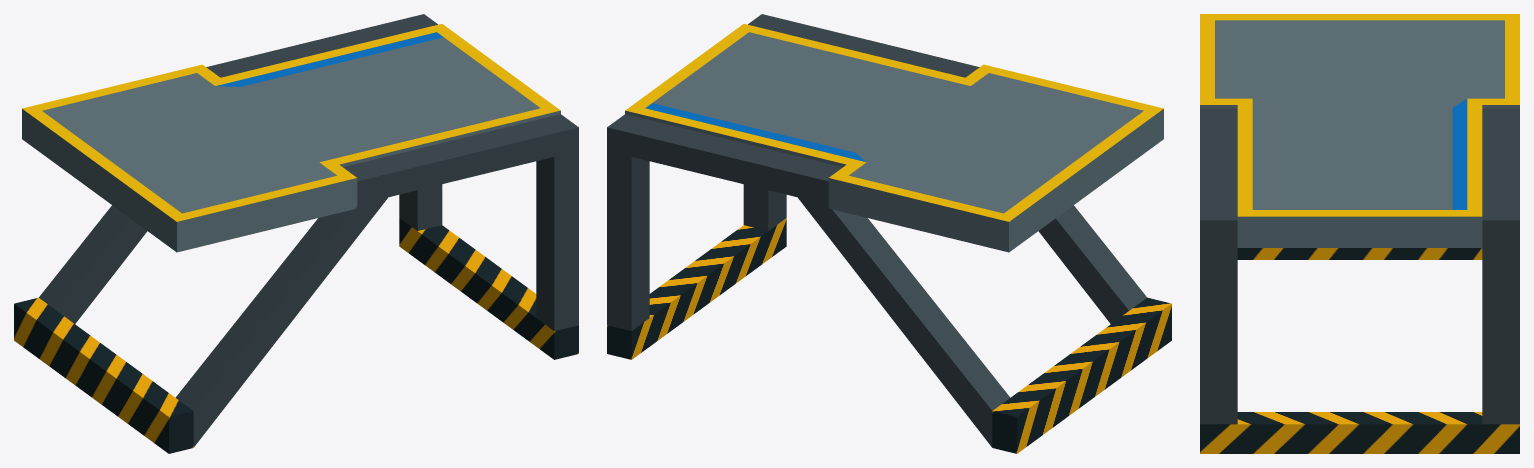
The model's file is Desk_003.glb.
The picture shows the model from 3 angles, left to right: view 1: azimuth 30°, elevation 25°; view 2: azimuth 150°, elevation 25°; view 3: azimuth 270°, elevation 25°; orthographic projection. The views are drawn at different scales.
Parts seen in each view (by area): view 1: Desk_003; view 2: Desk_003; view 3: Desk_003.
Boxes of the visible parts, box(x1,y1,x2,y2) form: Desk_003: box(14, 14, 578, 453); Desk_003: box(607, 14, 1171, 453); Desk_003: box(1200, 14, 1519, 453).
Size of the model in its own units: 1.61 by 0.8617 by 1.05.
2 materials, 2 textured.
